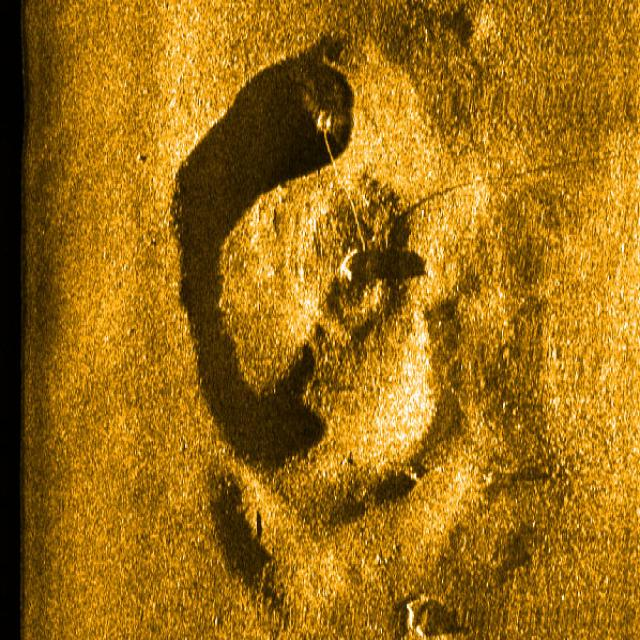other: (196, 61, 480, 503)
